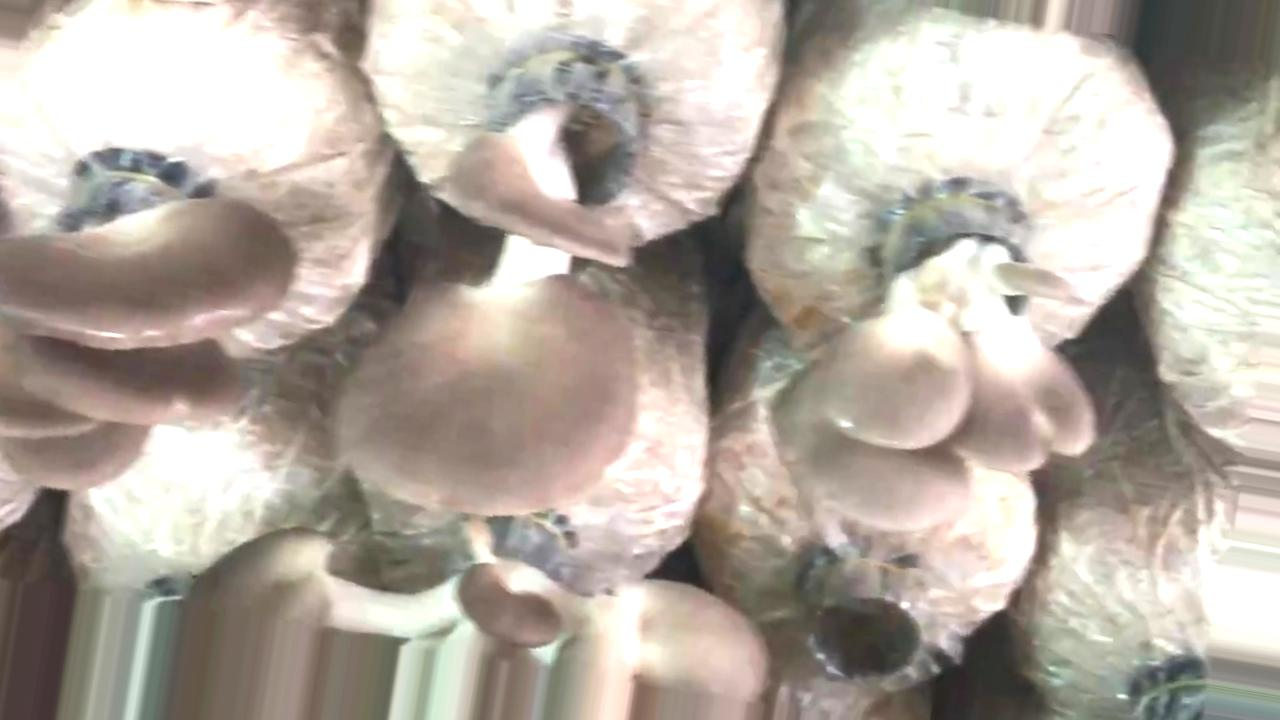nam: (335, 37, 657, 516), (172, 520, 770, 720), (761, 191, 1099, 542), (1, 150, 306, 489)
